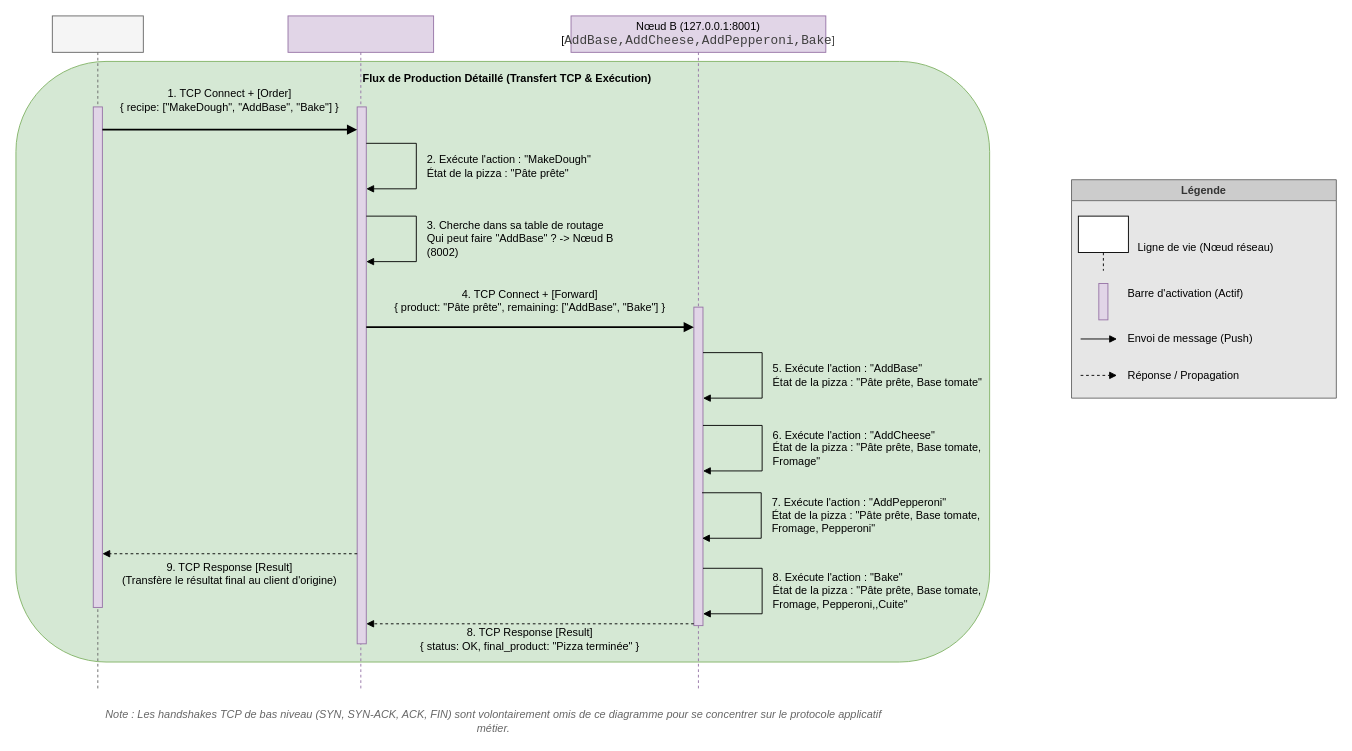
Image size: 1352x751. Some labels were removed from this diagram. The box of each missing label's shape, as (x1, y1, x2, y2) in pixels:
Client CLI: (51, 15, 143, 689)
Nœud A (127.0.0.1:8000) [MakeDough]: (287, 15, 434, 689)
